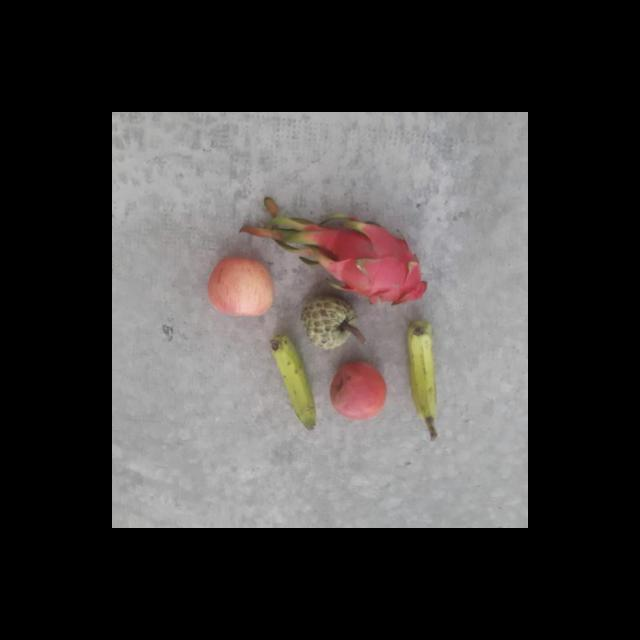Sakya fruit: (299, 294, 362, 352)
apple: (208, 252, 276, 322), (328, 359, 390, 421)
banana: (268, 332, 322, 432), (401, 320, 447, 420)
pitaya: (318, 218, 428, 304)
